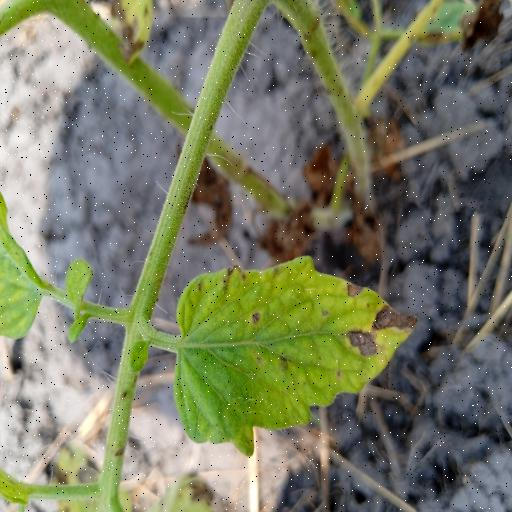Tomato_Brown_Spots: (170, 245, 424, 456)
